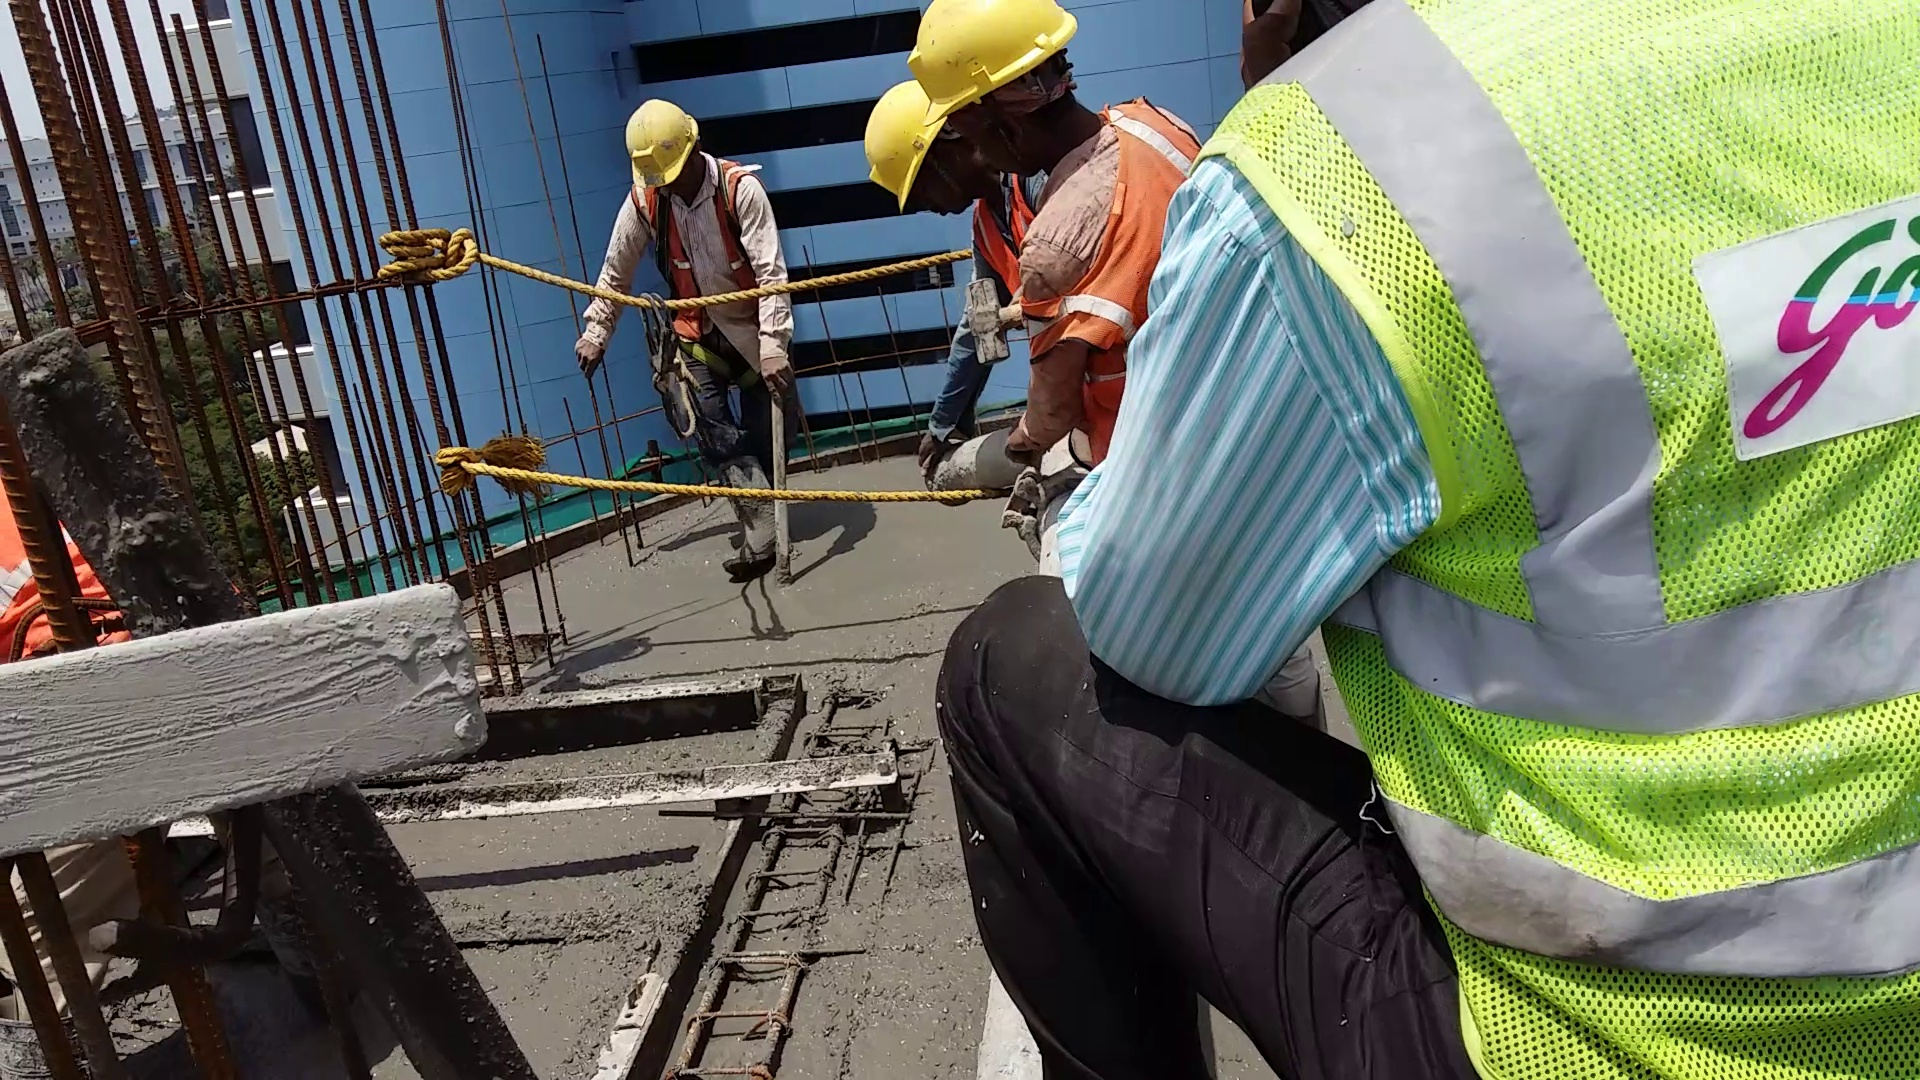SAFE: (916, 5, 1170, 330), (621, 95, 781, 371)
